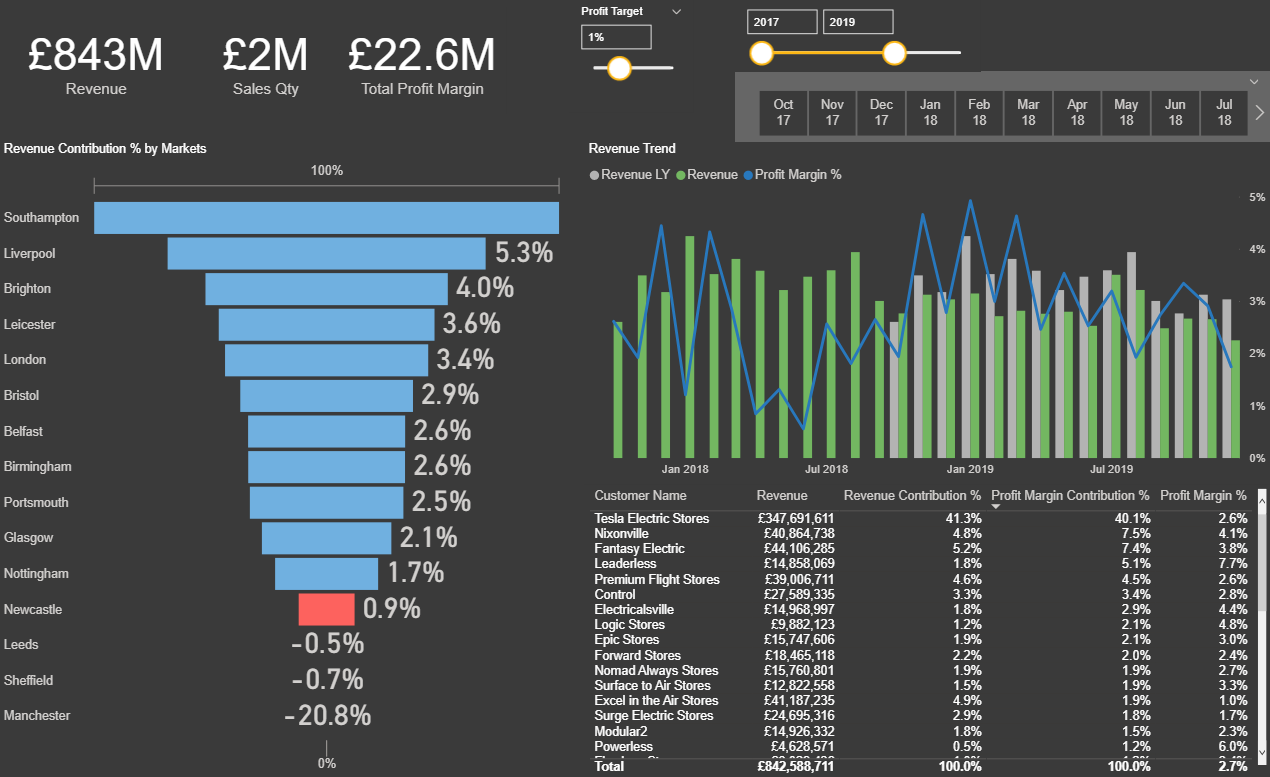

What the dashboard file says about the page in this screenshot:
{"tool":"powerbi","page":{"name":"Performance","canvas":[1340,820],"ordinal":2},"visuals":[{"type":"card","fields":{"Values":["base measures.Revenue"]},"box":[0,0,204.3,149.8],"z":0},{"type":"card","fields":{"Values":["base measures.Sales Qty"]},"box":[204.8,0,153.8,149.8],"z":1000},{"type":"slicer","fields":{"Values":["sales date.year"]},"box":[775.6,1.1,564.4,74.3],"z":2000},{"type":"tableEx","title":"Top 5 Customers","fields":{"Values":["sales customers.custmer_name","base measures.Revenue","base measures.Revenue Contribution %","base measures.Profit Margin Contribution %","base measures.Profit Margin %"]},"box":[616.2,510.4,724.1,309.6],"z":3000},{"type":"slicer","fields":{"Values":["sales date.cy_date"]},"box":[775.8,74.8,564.2,74.8],"z":4000},{"type":"lineClusteredColumnComboChart","title":"Revenue Trend","fields":{"Category":["sales date.cy_date"],"Y":["base measures.Revenue LY","base measures.Revenue"],"Y2":["base measures.Profit Margin %"]},"box":[616.2,149.8,724.1,360.6],"z":5000},{"type":"card","fields":{"Values":["base measures.Total Profit Margin"]},"box":[358.6,0,174.8,149.8],"z":6000},{"type":"funnel","title":"Revenue Contribution % by Markets","fields":{"Category":["sales markets.region","sales markets.markets_name","sales customers.custmer_name"],"Y":["base measures.Profit Margin %"]},"box":[0,149.8,600,670.2],"z":7000},{"type":"slicer","fields":{"Values":["Profit Target.Profit Target"]},"box":[600,0,175.6,113.1],"z":8000}]}

Visuals, with their boxes in screenshot pixels (x1, y1, x2, y2), scaled from the page's 1340x820 canvas onto the 1270x777 screenshot:
card - base measures.Revenue: (0,0,194,142)
card - base measures.Sales Qty: (194,0,340,142)
slicer - sales date.year: (735,1,1269,71)
"Top 5 Customers" tableEx: (584,484,1269,776)
slicer - sales date.cy_date: (735,71,1269,142)
"Revenue Trend" lineClusteredColumnComboChart: (584,142,1269,484)
card - base measures.Total Profit Margin: (340,0,506,142)
"Revenue Contribution % by Markets" funnel: (0,142,569,776)
slicer - Profit Target.Profit Target: (569,0,735,107)
